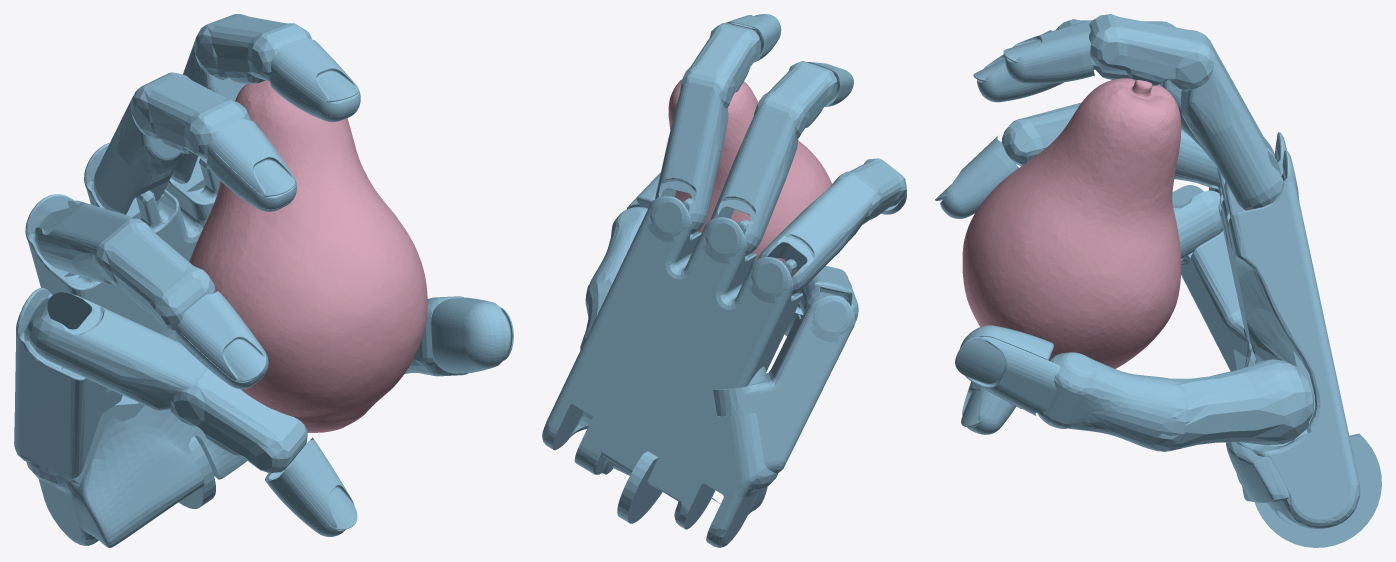
3 views of the same model, side by side, from view 1: azimuth 30°, elevation 25°; view 2: azimuth 150°, elevation 25°; view 3: azimuth 270°, elevation 25° (orthographic). The views are drawn at different scales.
Visible parts, largest first — view 1: world, pear.stl; view 2: world, pear.stl; view 3: world, pear.stl.
Boxes of the visible parts, x1,y1,x2,y2 form: world: (14, 14, 513, 547); pear.stl: (189, 80, 427, 432); world: (542, 14, 906, 547); pear.stl: (668, 79, 831, 277); world: (935, 14, 1381, 547); pear.stl: (962, 78, 1181, 368).
Size of the model in its own units: 0.1244 by 0.1762 by 0.1341.
